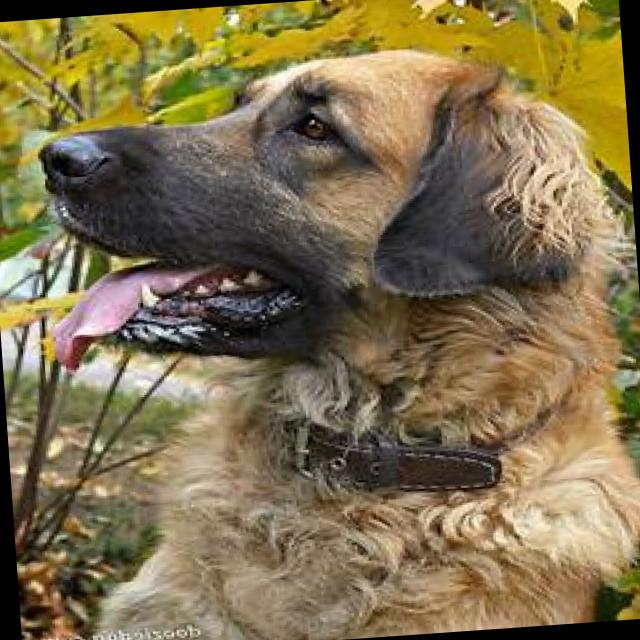animal: (15, 21, 640, 640)
